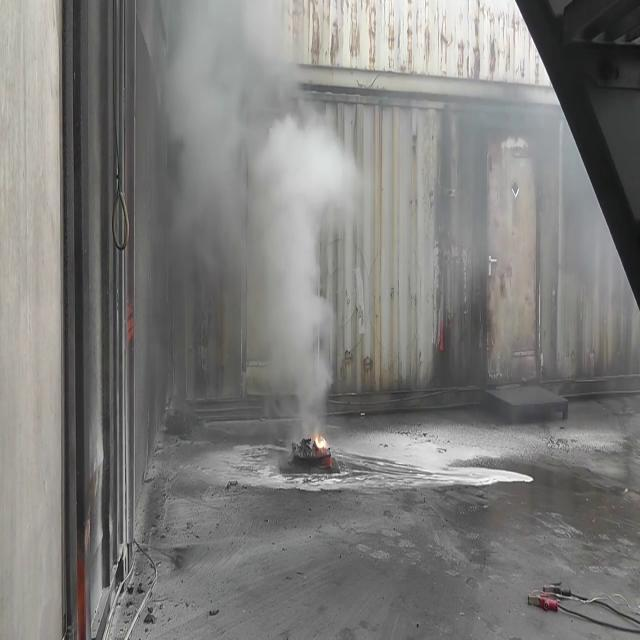Fire: (308, 426, 332, 458)
Smoke: (136, 1, 351, 433)
